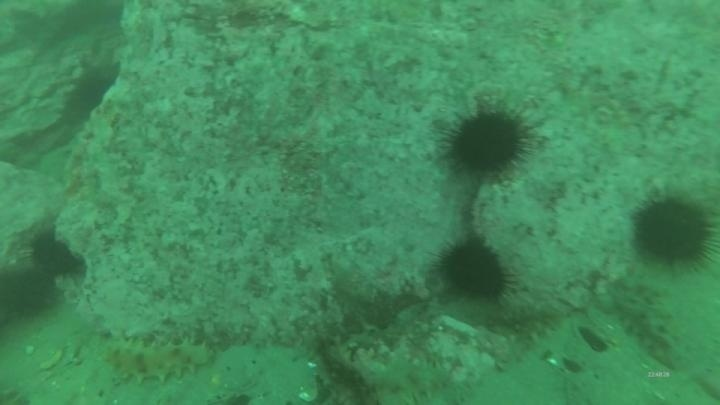echinus: (443, 105, 534, 179), (630, 193, 717, 270), (434, 235, 514, 303), (1, 265, 58, 323), (63, 71, 117, 128), (27, 230, 82, 278)
holothurian: (609, 281, 685, 370), (98, 334, 214, 387), (361, 356, 469, 404)
